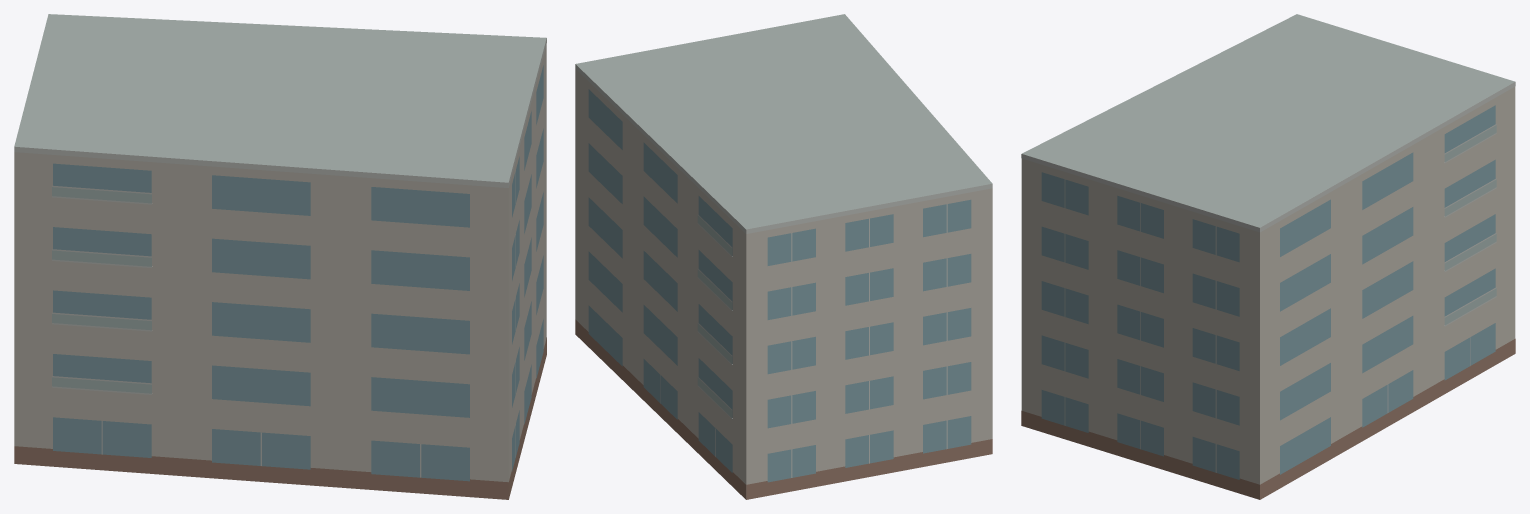
File: survey-upis-32767705.glb
The picture shows the model from 3 angles, left to right: view 1: azimuth 30°, elevation 25°; view 2: azimuth 150°, elevation 25°; view 3: azimuth 270°, elevation 25°; orthographic projection. The views are drawn at different scales.
Visible parts, largest first — view 1: survey-upis-32767705.tmp; view 2: survey-upis-32767705.tmp; view 3: survey-upis-32767705.tmp.
Part boxes in pixels (x1,y1,x2,y2): survey-upis-32767705.tmp: [14, 14, 546, 499]; survey-upis-32767705.tmp: [575, 14, 992, 499]; survey-upis-32767705.tmp: [1021, 14, 1515, 499].
Bounding box in the file's own units: 24.21 × 14.35 × 23.63.
